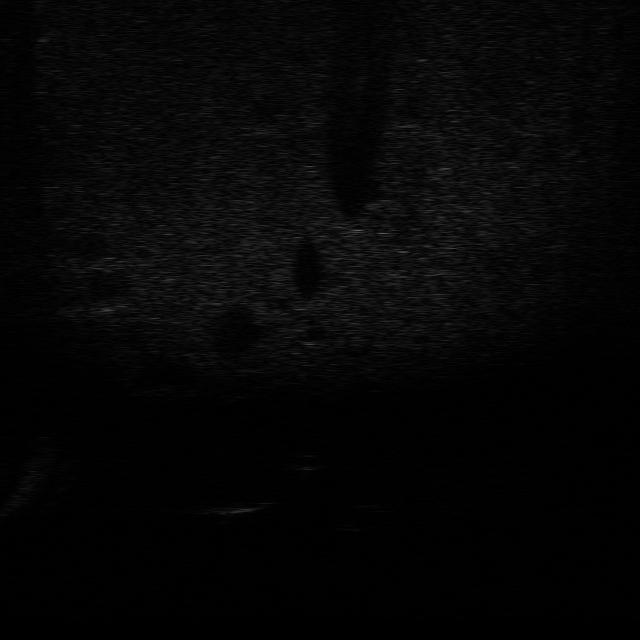ball: (279, 447, 331, 474)
square cage: (191, 488, 275, 521)
tyre: (330, 502, 394, 536)
